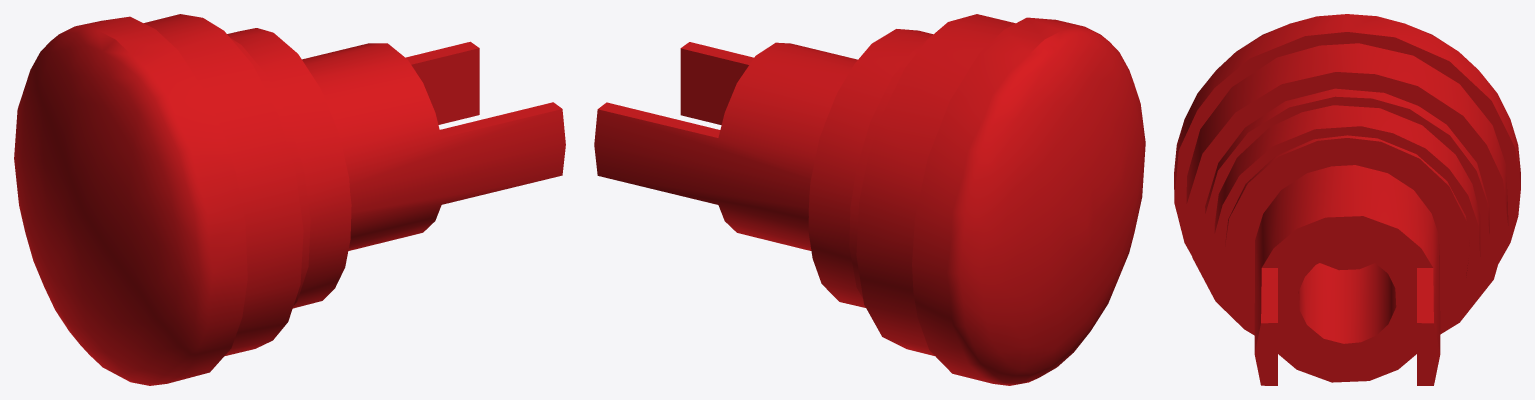
File: torso_link_mat_16.obj
3 views of the same model, side by side, from view 1: azimuth 30°, elevation 25°; view 2: azimuth 150°, elevation 25°; view 3: azimuth 270°, elevation 25° (orthographic). The views are drawn at different scales.
Bounding box in the file's own units: 0.0421 × 0.03 × 0.03.
